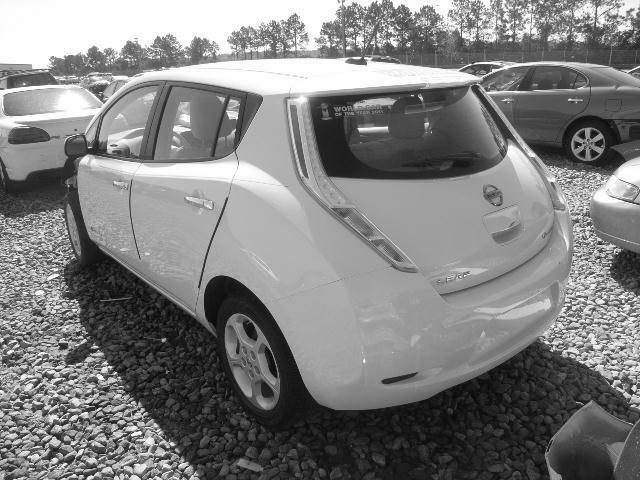car: (62, 57, 575, 435)
